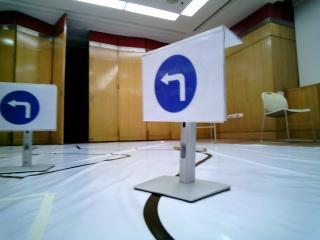left: (143, 50, 217, 111), (2, 85, 53, 130)
